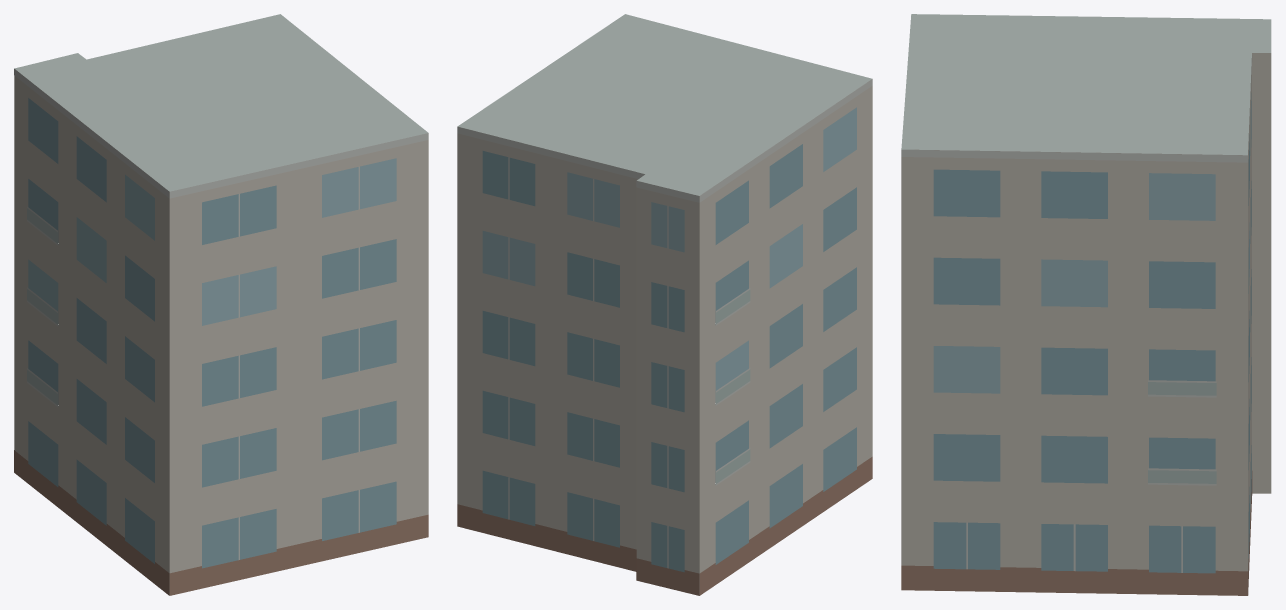
The model's file is survey-upis-32949154.glb.
3 renders of one model, left to right at view 1: azimuth 30°, elevation 25°; view 2: azimuth 150°, elevation 25°; view 3: azimuth 270°, elevation 25°, orthographic. The views are drawn at different scales.
Visible parts, largest first — view 1: survey-upis-32949154.tmp; view 2: survey-upis-32949154.tmp; view 3: survey-upis-32949154.tmp.
Part boxes in pixels (left/top/right/bottom): survey-upis-32949154.tmp: left=14, top=14, right=428, bottom=595; survey-upis-32949154.tmp: left=457, top=14, right=872, bottom=595; survey-upis-32949154.tmp: left=901, top=14, right=1271, bottom=595.
Size of the model in its own units: 9.9 by 14.4 by 10.98.
